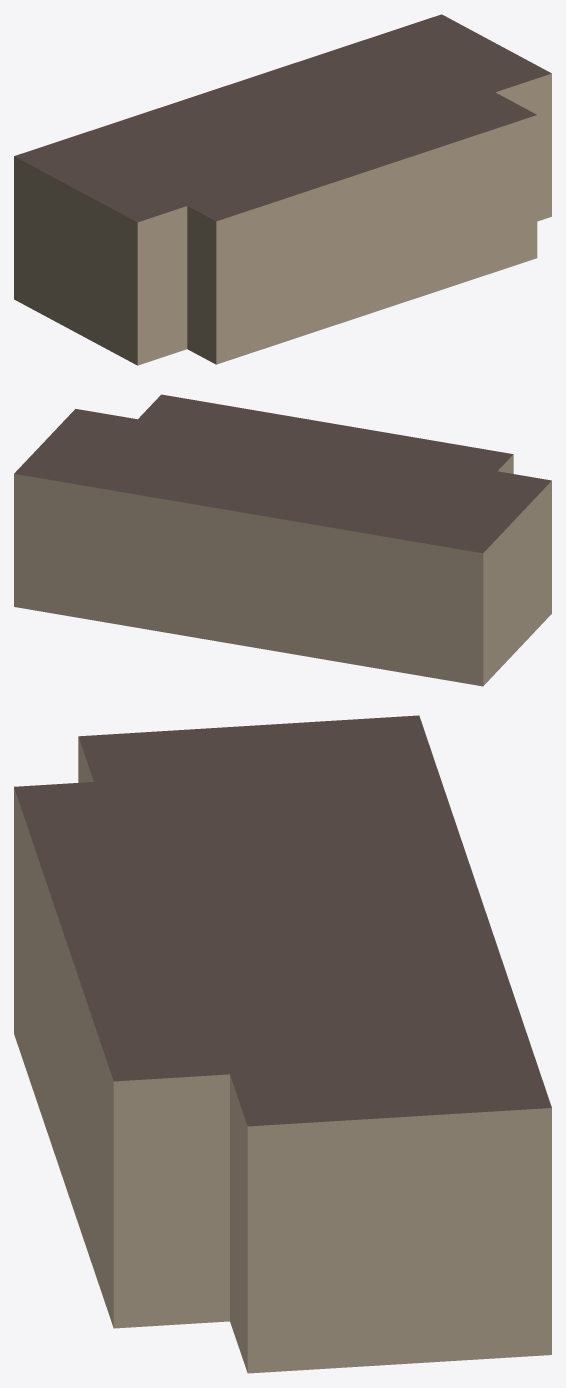
The picture shows the model from 3 angles, top to bottom: view 1: azimuth 30°, elevation 25°; view 2: azimuth 150°, elevation 25°; view 3: azimuth 270°, elevation 25°; orthographic projection. The views are drawn at different scales.
Parts seen in each view (by area): view 1: HP-w494397735; view 2: HP-w494397735; view 3: HP-w494397735.
Part boxes in pixels (left/top/right/bottom): HP-w494397735: left=14, top=14, right=551, bottom=365; HP-w494397735: left=14, top=394, right=551, bottom=686; HP-w494397735: left=14, top=715, right=551, bottom=1373.
Size of the model in its own units: 32.11 by 9 by 17.76.
